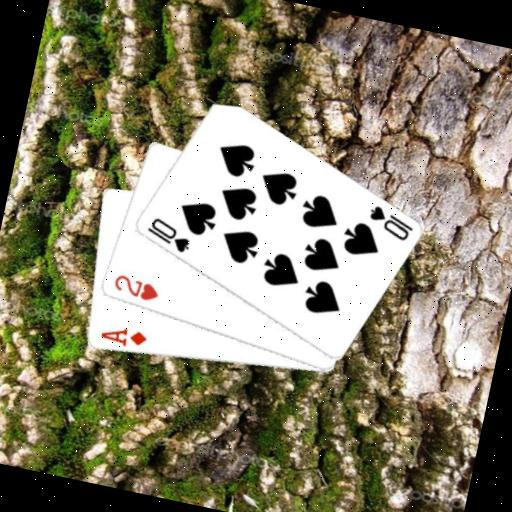10S: (361, 201, 417, 244), (140, 213, 195, 256)
2H: (108, 270, 163, 305)
AD: (95, 320, 149, 353)
